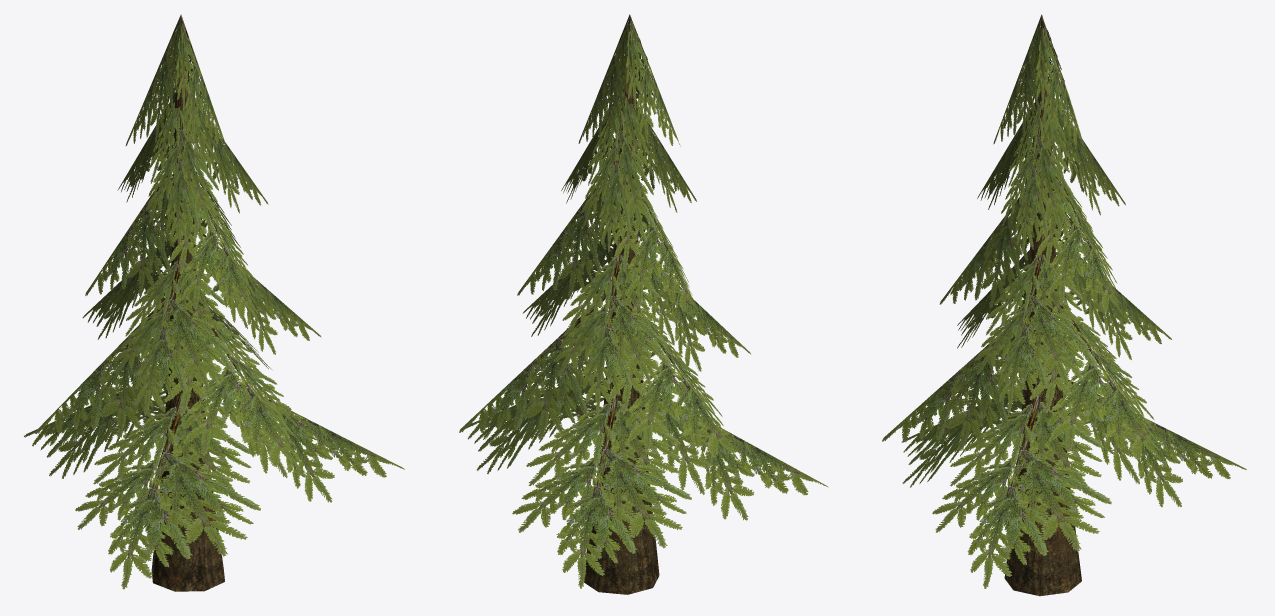
File: Tree02.FBX
The picture shows the model from 3 angles, left to right: view 1: azimuth 30°, elevation 25°; view 2: azimuth 150°, elevation 25°; view 3: azimuth 270°, elevation 25°; orthographic projection.
Parts seen in each view (by area): view 1: Tree02; view 2: Tree02; view 3: Tree02.
Part boxes in pixels (left/top/right/bottom): Tree02: left=24, top=14, right=404, bottom=591; Tree02: left=459, top=14, right=828, bottom=594; Tree02: left=882, top=14, right=1246, bottom=596.
Size of the model in its own units: 1097 by 1714 by 1078.
